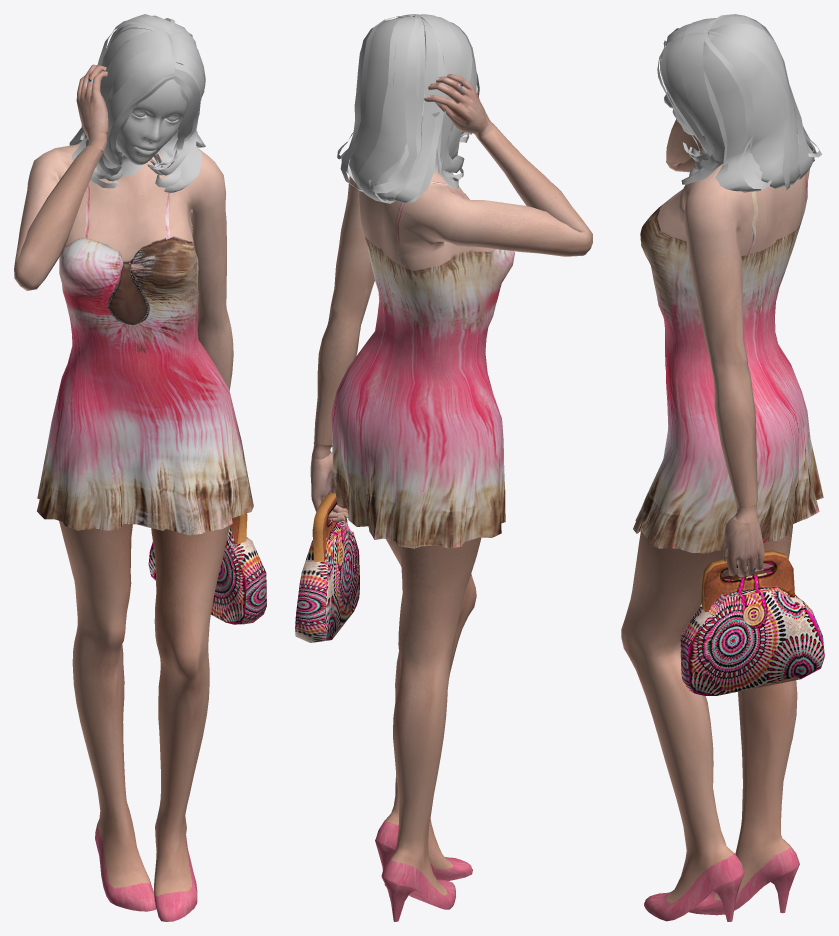
The picture shows the model from 3 angles, left to right: view 1: azimuth 30°, elevation 25°; view 2: azimuth 150°, elevation 25°; view 3: azimuth 270°, elevation 25°; orthographic projection. The views are drawn at different scales.
Visible parts, largest first — view 1: UA_Female12_3; view 2: UA_Female12_3; view 3: UA_Female12_3.
Boxes of the visible parts, x1=… form: UA_Female12_3: x1=14, y1=14, x2=266, y2=921; UA_Female12_3: x1=295, y1=14, x2=592, y2=921; UA_Female12_3: x1=621, y1=14, x2=824, y2=921.
Size of the model in its own units: 53.59 by 175 by 35.84.
